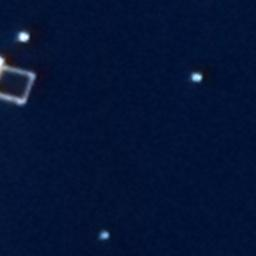square_solid: (1, 62, 36, 108)
